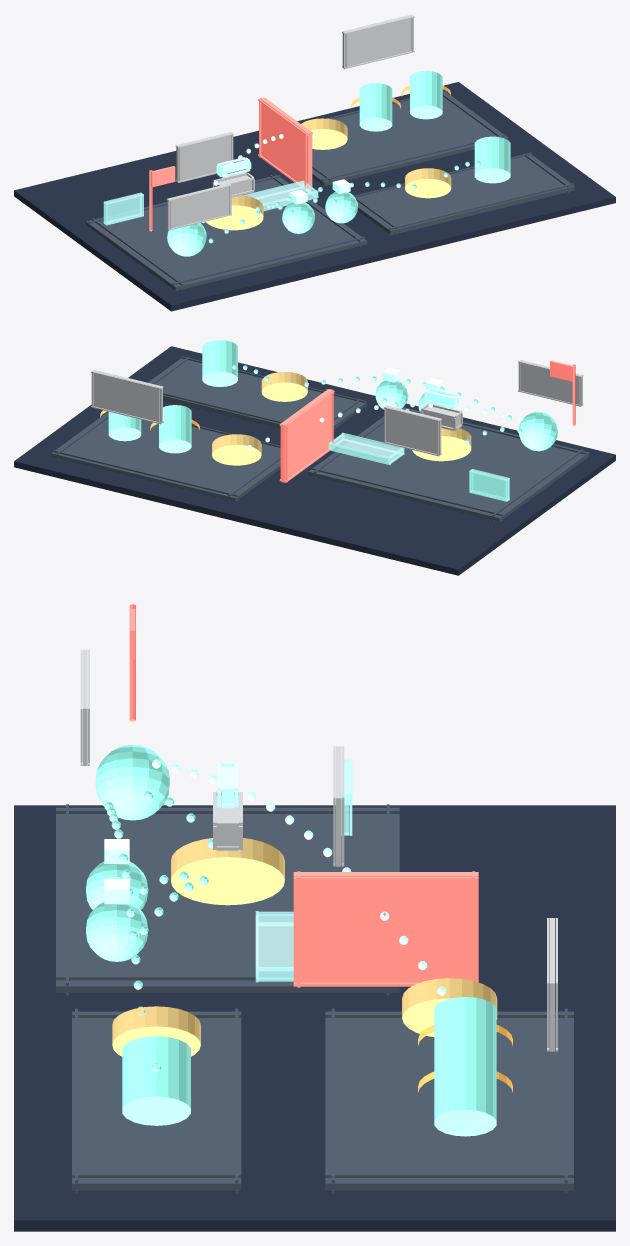
File: service-dns.glb
The picture shows the model from 3 angles, top to bottom: view 1: azimuth 30°, elevation 25°; view 2: azimuth 150°, elevation 25°; view 3: azimuth 270°, elevation 25°; orthographic projection. The views are drawn at different scales.
Parts seen in each view (by area): view 1: dns-floor, ns-shop, ns-kube-system, ns-data, sim-netpol-wall, corefile, resolv-conf, endpointslice-api, db-pod, coredns-0, coredns-1, svc-api (+10 smaller); view 2: dns-floor, ns-shop, ns-kube-system, ns-data, sim-netpol-wall, corefile, endpointslice-api, resolv-conf, db-pod, coredns-0, kube-proxy-rules, svc-kube-dns (+9 smaller); view 3: dns-floor, ns-shop, ns-kube-system, ns-data, sim-netpol-wall, svc-api, db-pod, coredns-1, client-pod, coredns-0, svc-db, api-pod-1 (+10 smaller).
Part boxes in pixels (box(x1,y1,x2,y2)): dns-floor: box(14, 82, 615, 311); ns-shop: box(86, 175, 367, 290); ns-kube-system: box(312, 90, 508, 186); ns-data: box(353, 152, 574, 235); sim-netpol-wall: box(258, 97, 312, 190); corefile: box(342, 14, 414, 68); resolv-conf: box(166, 183, 231, 230); endpointslice-api: box(175, 132, 233, 182); db-pod: box(474, 136, 510, 183); coredns-0: box(359, 83, 392, 131); coredns-1: box(410, 71, 442, 119); svc-api: box(206, 195, 263, 230); dns-floor: box(14, 346, 615, 575); ns-shop: box(308, 406, 589, 521); ns-kube-system: box(51, 411, 280, 502); ns-data: box(148, 356, 366, 429); sim-netpol-wall: box(279, 389, 334, 482); corefile: box(91, 369, 163, 424); endpointslice-api: box(383, 405, 441, 456); resolv-conf: box(518, 360, 583, 406); db-pod: box(202, 340, 237, 386); coredns-0: box(159, 405, 191, 453); kube-proxy-rules: box(328, 432, 404, 464); svc-kube-dns: box(212, 434, 261, 465); dns-floor: box(14, 805, 615, 1231); ns-shop: box(56, 804, 399, 996); ns-kube-system: box(325, 1008, 573, 1193); ns-data: box(72, 1008, 241, 1193); sim-netpol-wall: box(293, 871, 478, 987); svc-api: box(171, 838, 284, 905); db-pod: box(122, 1036, 190, 1125); coredns-1: box(434, 1043, 496, 1136); client-pod: box(95, 744, 169, 820); coredns-0: box(434, 997, 496, 1054); svc-db: box(112, 1006, 200, 1056); api-pod-1: box(86, 902, 147, 961).
Size of what is drawn, in the model's own units: 6.2 by 1.54 by 3.8.
